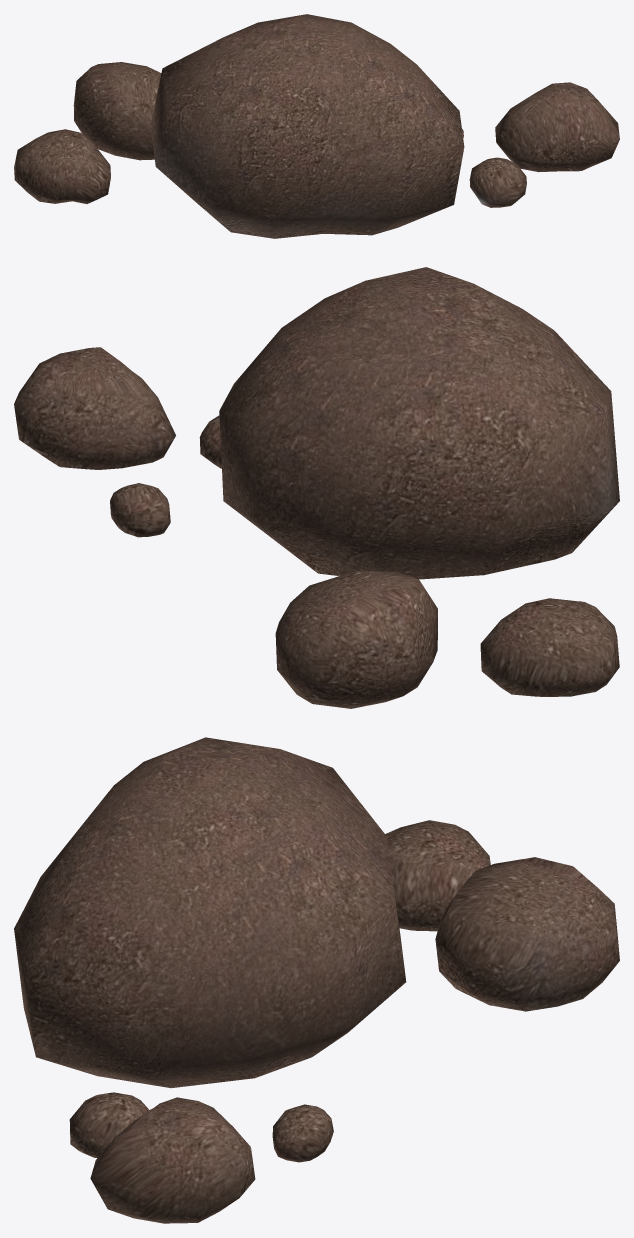
File: Roca_002_Correct_Textures.fbx
The picture shows the model from 3 angles, top to bottom: view 1: azimuth 30°, elevation 25°; view 2: azimuth 150°, elevation 25°; view 3: azimuth 270°, elevation 25°; orthographic projection. The views are drawn at different scales.
Visible parts, largest first — view 1: Cube.003; view 2: Cube.003; view 3: Cube.003.
Boxes of the visible parts, left/top/right/bottom form: Cube.003: left=14, top=14, right=619, bottom=238; Cube.003: left=14, top=267, right=619, bottom=708; Cube.003: left=14, top=737, right=619, bottom=1223.
Size of the model in its own units: 774 by 281 by 563.
Materials: 1 (1 with a texture image).
